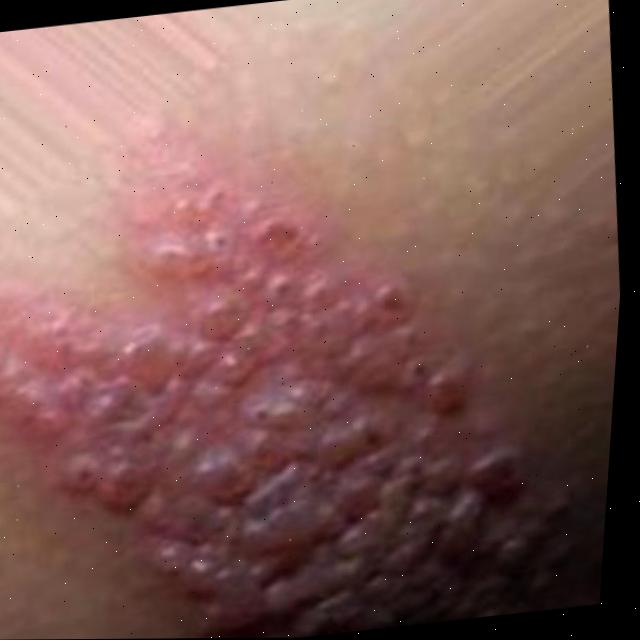Shingles: (0, 143, 523, 640)
